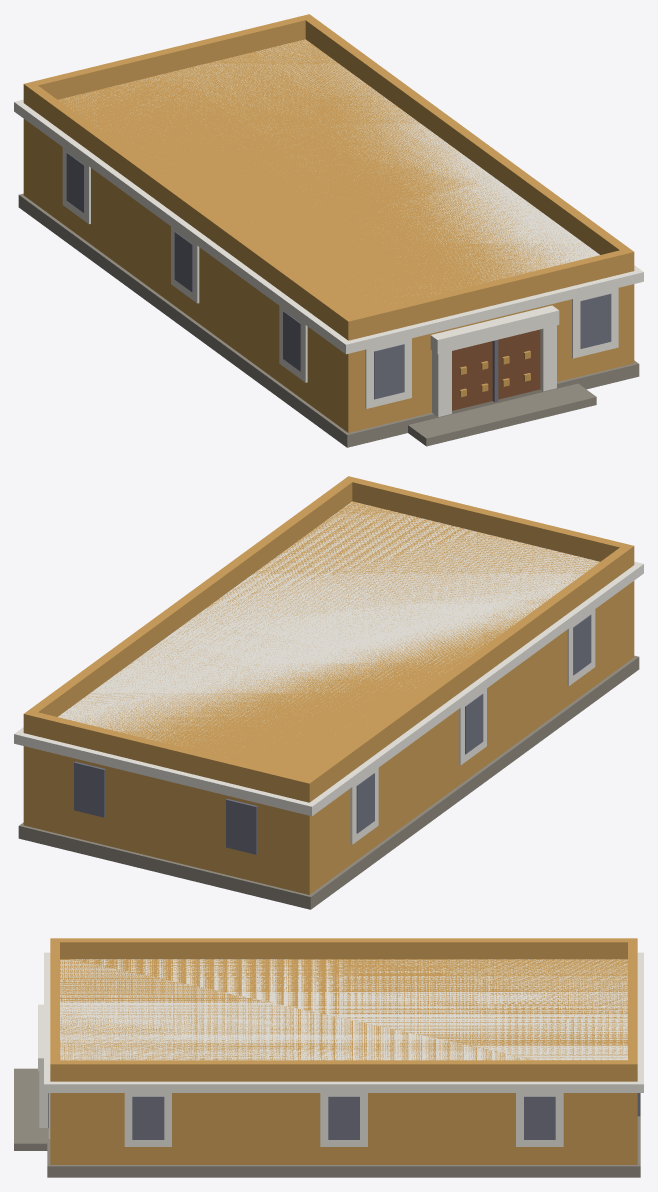
Rendered from house-1x2-1f-quincha-a.glb.
3 renders of one model, top to bottom at view 1: azimuth 30°, elevation 25°; view 2: azimuth 150°, elevation 25°; view 3: azimuth 270°, elevation 25°, orthographic. The views are drawn at different scales.
Parts seen in each view (by area): view 1: house-1x2-1f-quincha-a; view 2: house-1x2-1f-quincha-a; view 3: house-1x2-1f-quincha-a.
Part boxes in pixels (bbox=[...]): house-1x2-1f-quincha-a: bbox=[14, 14, 643, 447]; house-1x2-1f-quincha-a: bbox=[14, 476, 643, 909]; house-1x2-1f-quincha-a: bbox=[14, 938, 643, 1177].
Bounding box in the file's own units: 0.98 × 0.39 × 1.99.
1 material, 1 textured.
